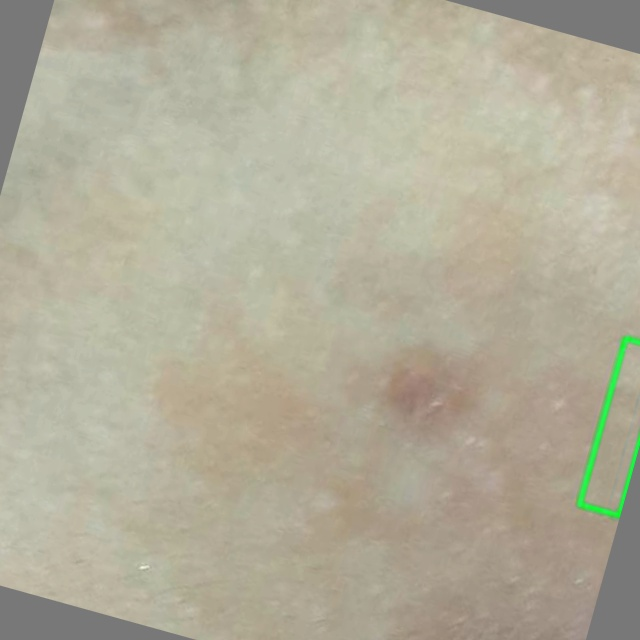Atopic Dermatitis: (579, 338, 639, 515)
